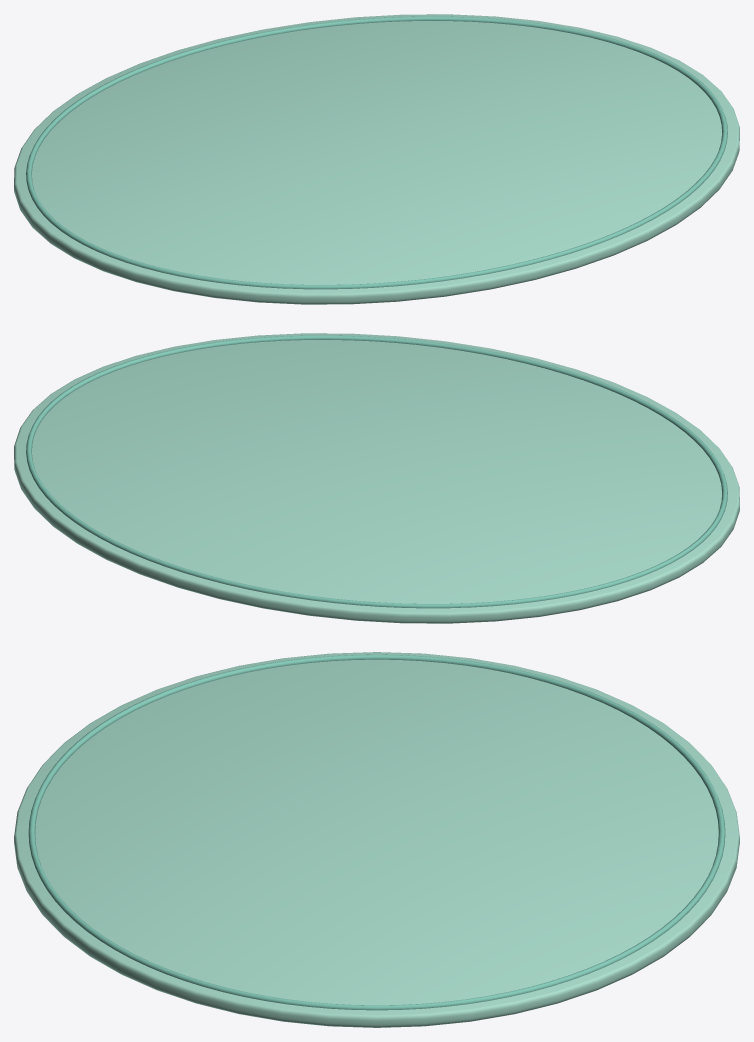
The picture shows the model from 3 angles, top to bottom: view 1: azimuth 30°, elevation 25°; view 2: azimuth 150°, elevation 25°; view 3: azimuth 270°, elevation 25°; orthographic projection. The views are drawn at different scales.
Visible parts, largest first — view 1: mat_body, mat_soft_edge; view 2: mat_body, mat_soft_edge; view 3: mat_body, mat_soft_edge.
Part boxes in pixels (x1,y1,x2,y2): mat_body: (14, 14, 739, 304); mat_soft_edge: (26, 16, 727, 289); mat_body: (14, 333, 739, 623); mat_soft_edge: (26, 335, 727, 608); mat_body: (14, 652, 739, 1027); mat_soft_edge: (28, 654, 725, 1010).
Size of the model in its own units: 1.55 by 0.032 by 1.3.
